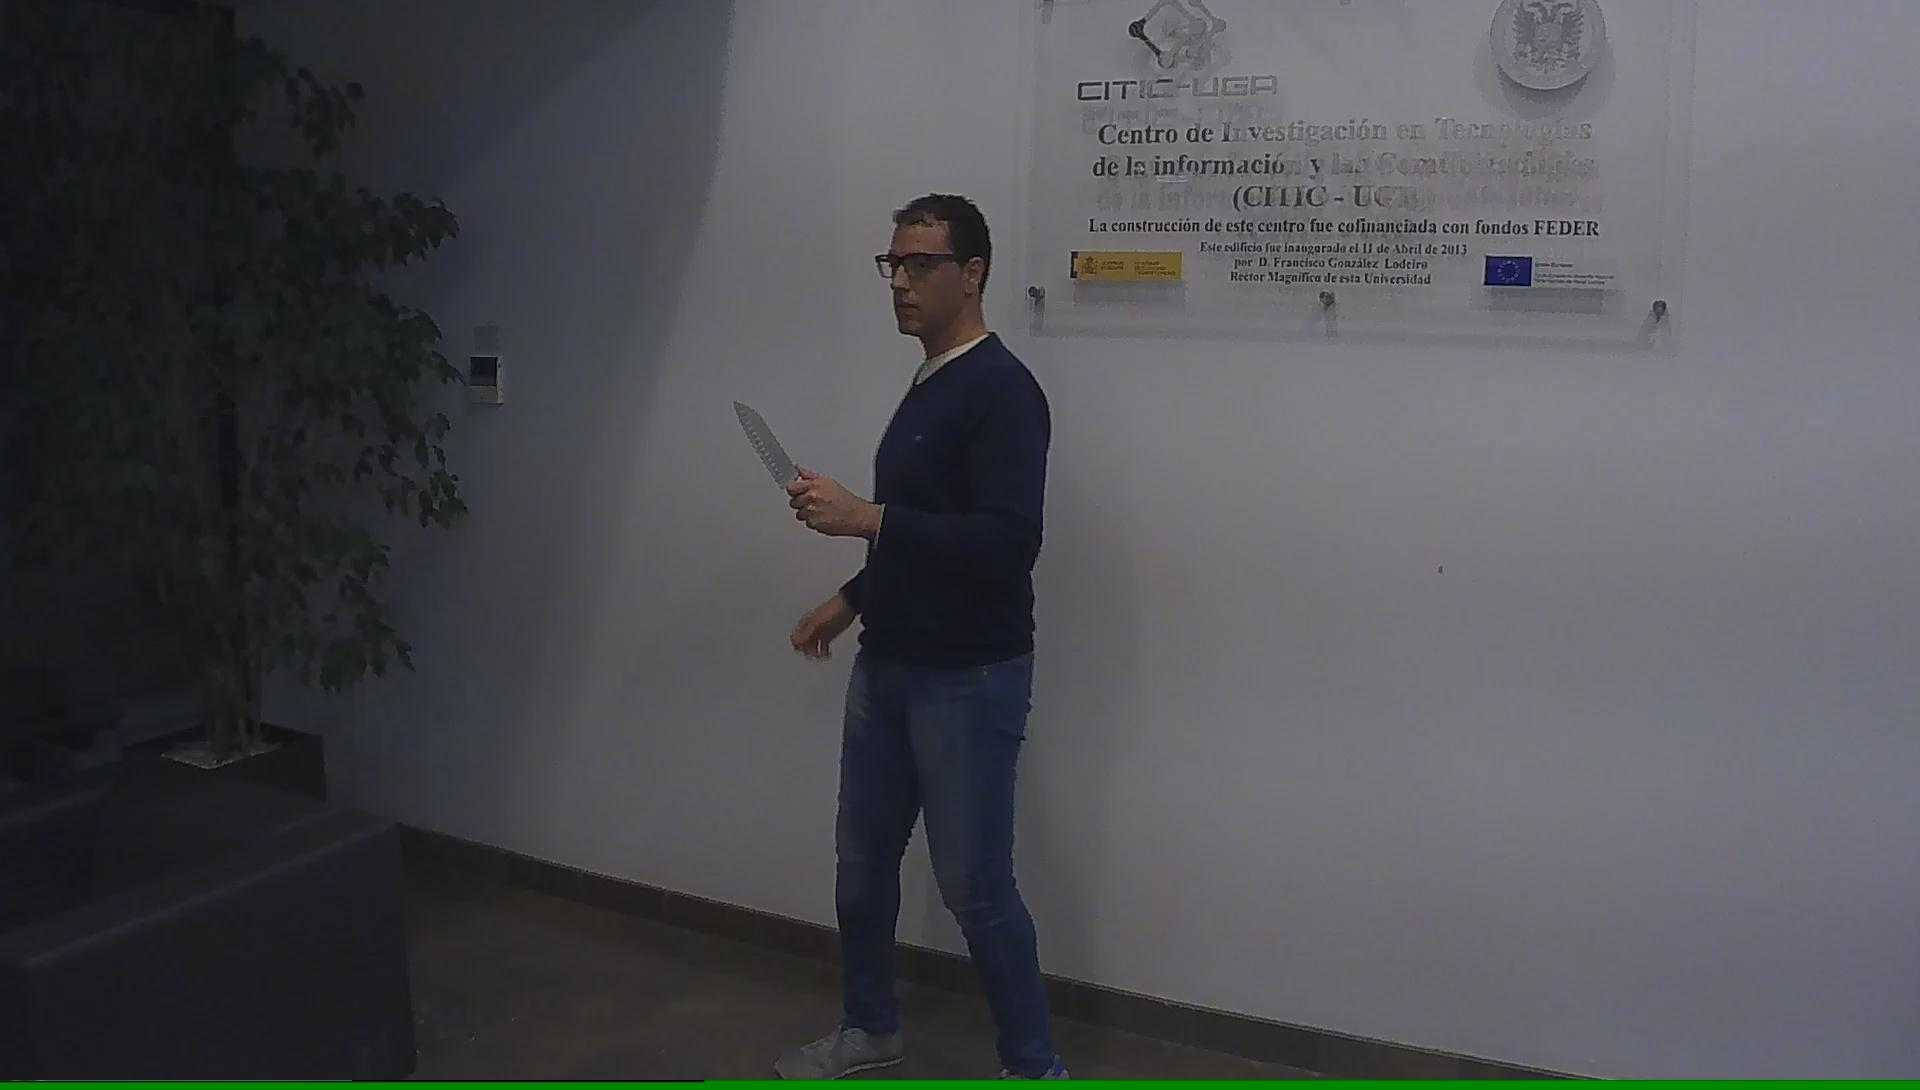criminal: (731, 192, 1072, 1078)
weapon: (732, 399, 812, 507)
